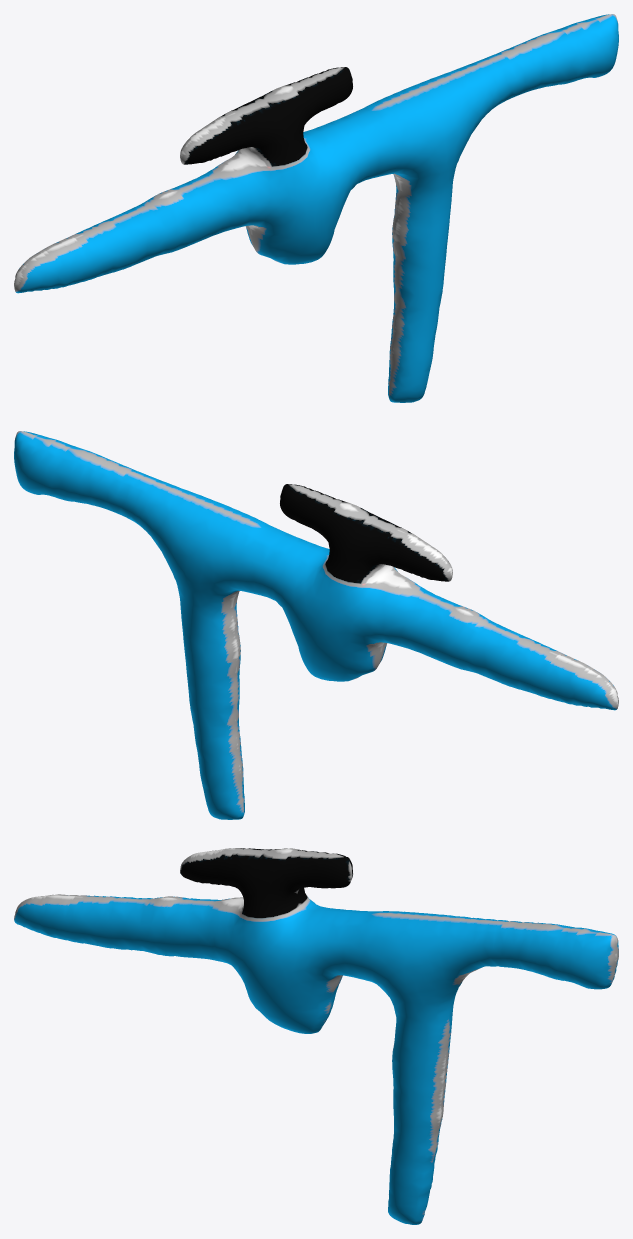
The model's file is asset.glb.
3 renders of one model, top to bottom at view 1: azimuth 30°, elevation 25°; view 2: azimuth 150°, elevation 25°; view 3: azimuth 330°, elevation 25°, orthographic.
Size of the model in its own units: 6.84 by 3.81 by 0.9692.
Materials: 1 (1 with a texture image).
